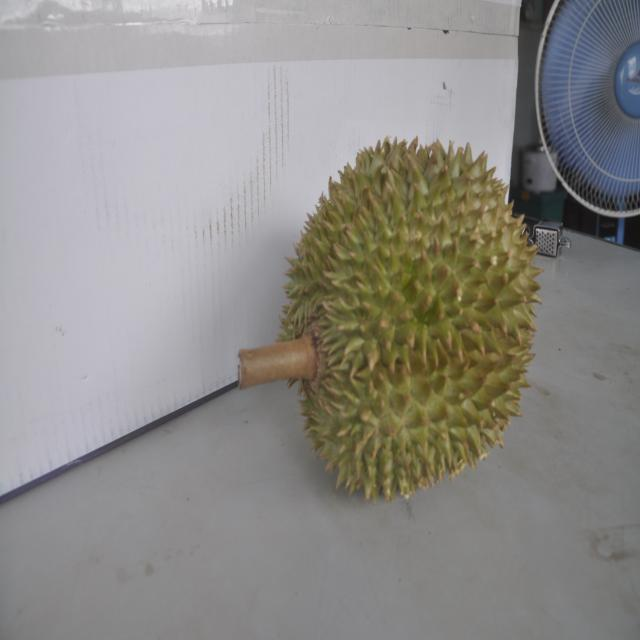mature: (280, 140, 541, 501)
